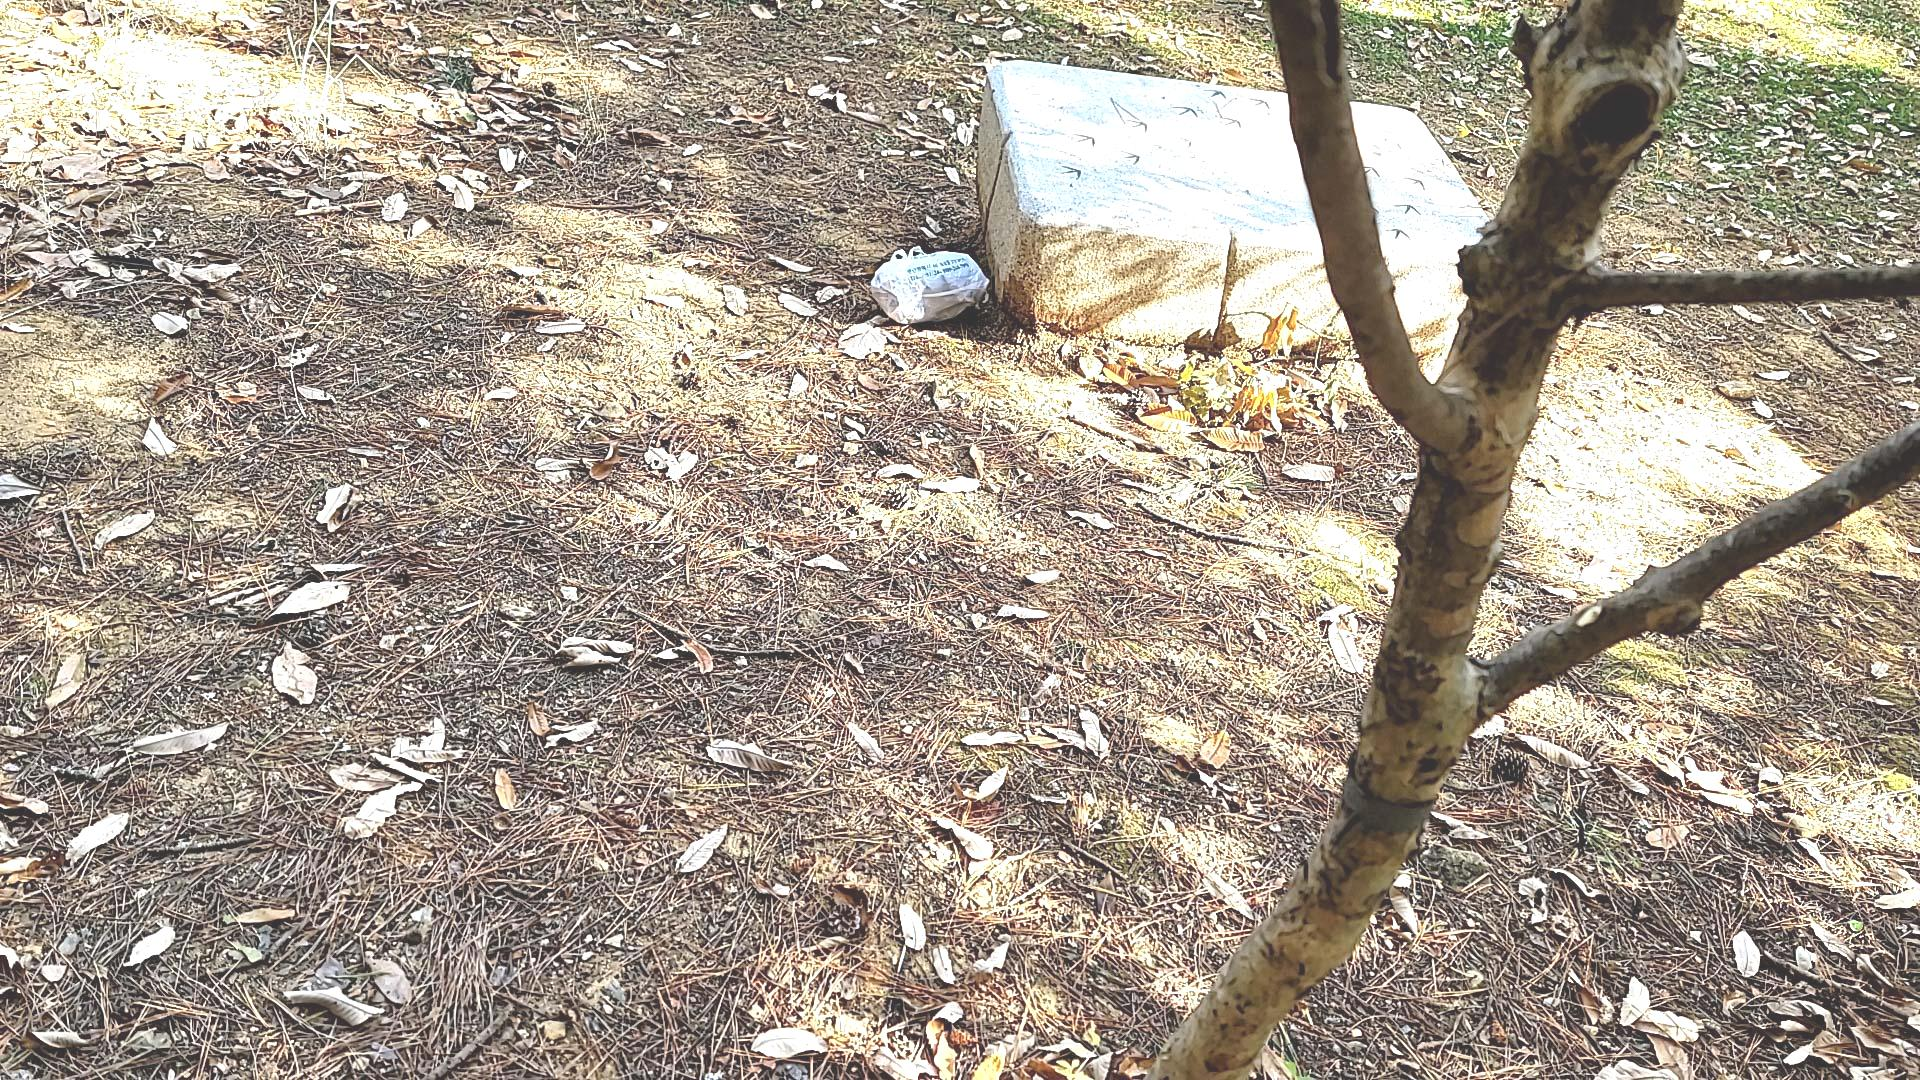white_bag: (858, 244, 996, 328)
